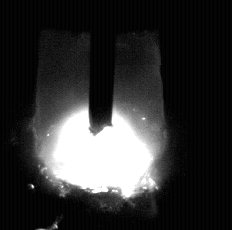arame: (90, 0, 114, 135)
poca: (35, 0, 166, 230)
